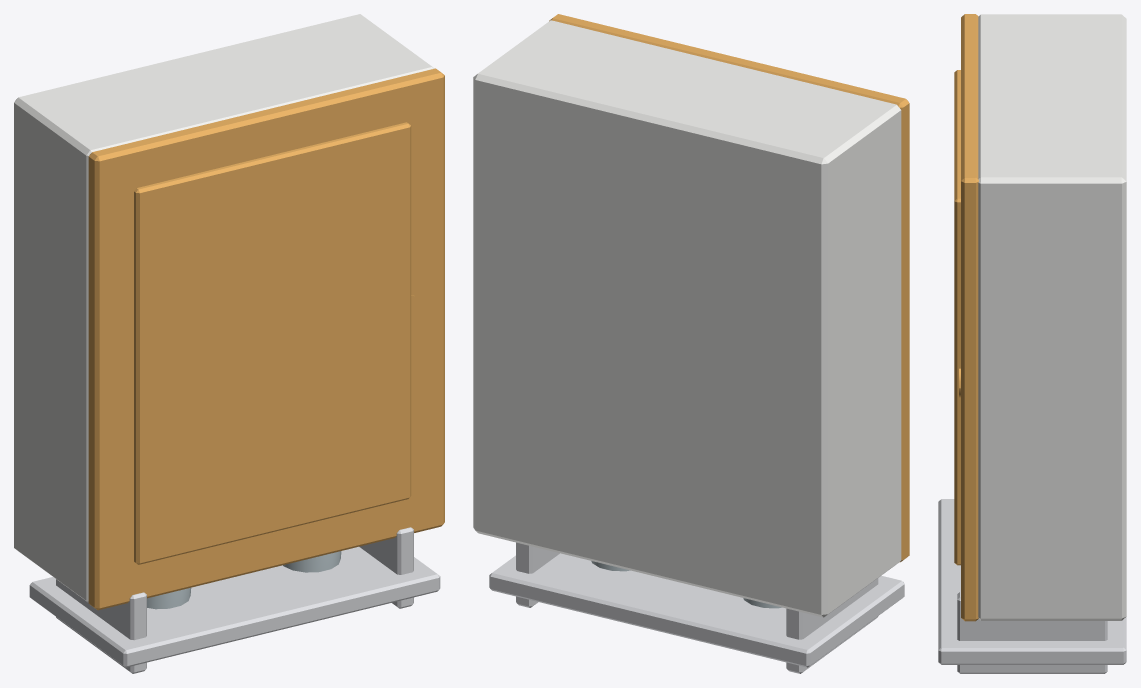
The model's file is office-lobby-and-facilities-first-aid-station-45c261f6__26291.glb.
3 views of the same model, side by side, from view 1: azimuth 30°, elevation 25°; view 2: azimuth 150°, elevation 25°; view 3: azimuth 270°, elevation 25° (orthographic). The views are drawn at different scales.
Parts seen in each view (by area): view 1: cabinet-door, first-aid-station; view 2: first-aid-station, cabinet-door; view 3: first-aid-station, cabinet-door.
Boxes of the visible parts, x1,y1,x2,y2 form: cabinet-door: (88,68,444,610); first-aid-station: (14,14,440,673); first-aid-station: (473,20,904,673); cabinet-door: (549,14,909,562); first-aid-station: (938,14,1126,673); cabinet-door: (954,14,978,621).
Size of the model in its own units: 0.42 by 0.6 by 0.2.
